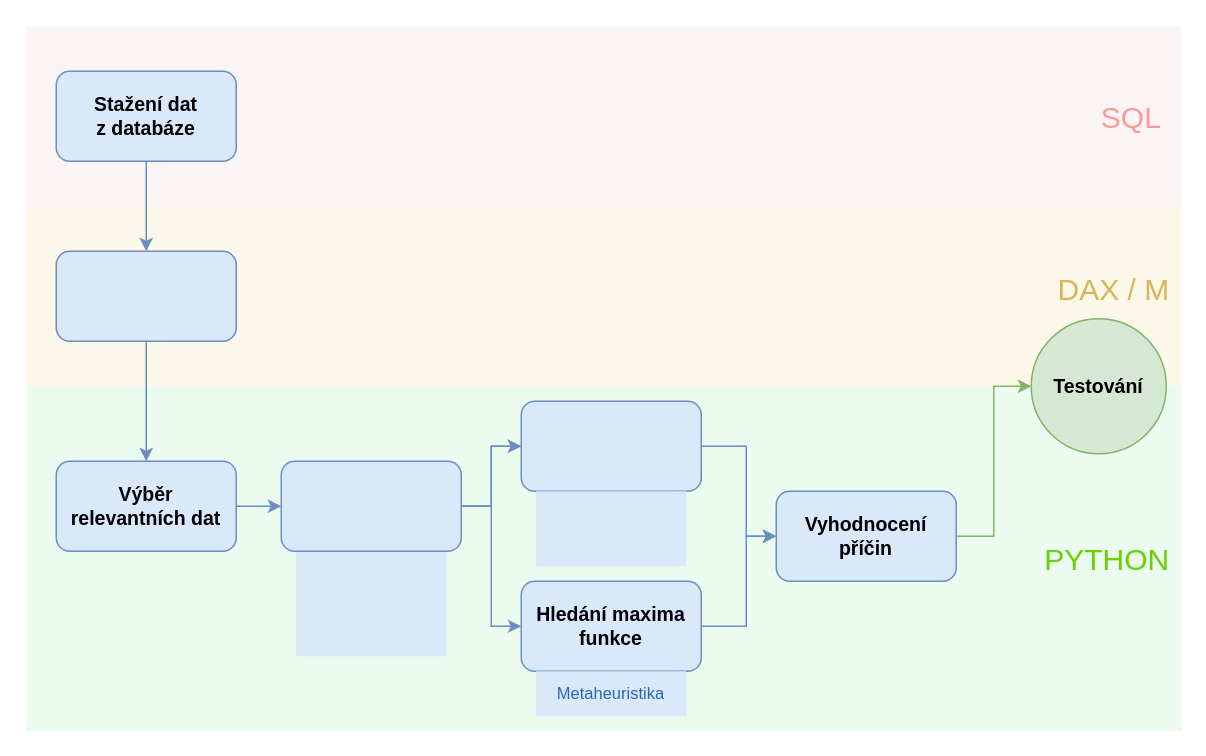
Image size: 1206x756. Some labels were removed from this diagram. Here are the shapes that lost their labels. From the top down, the centre of each, then its label:
the point at 145,295: Vizualizace dat v Power BI
the point at 610,445: Klasifikace dat
the point at 370,505: Předzpracování dat
the point at 611,528: Logistická regrese Random forest Gradient boosting
the point at 371,603: Odlehlé hodnoty Multikolinearita Korelace PCA
